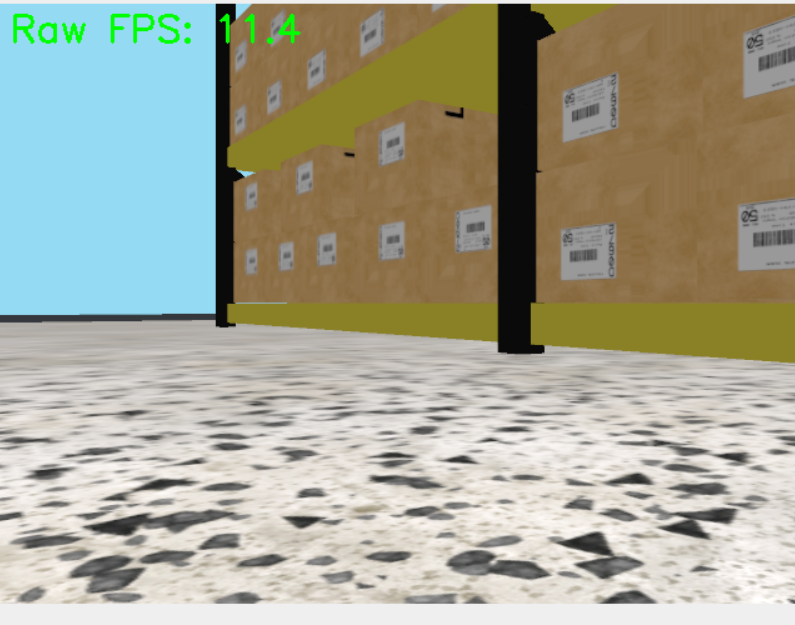barcode: (561, 73, 620, 143), (559, 223, 617, 281), (454, 204, 494, 254), (359, 8, 385, 58), (377, 121, 406, 165), (377, 221, 406, 259), (306, 49, 326, 90), (315, 232, 337, 266), (294, 160, 314, 197), (278, 241, 295, 273), (232, 103, 248, 136), (266, 80, 281, 114), (234, 41, 248, 73), (244, 247, 259, 275), (244, 184, 258, 210)
